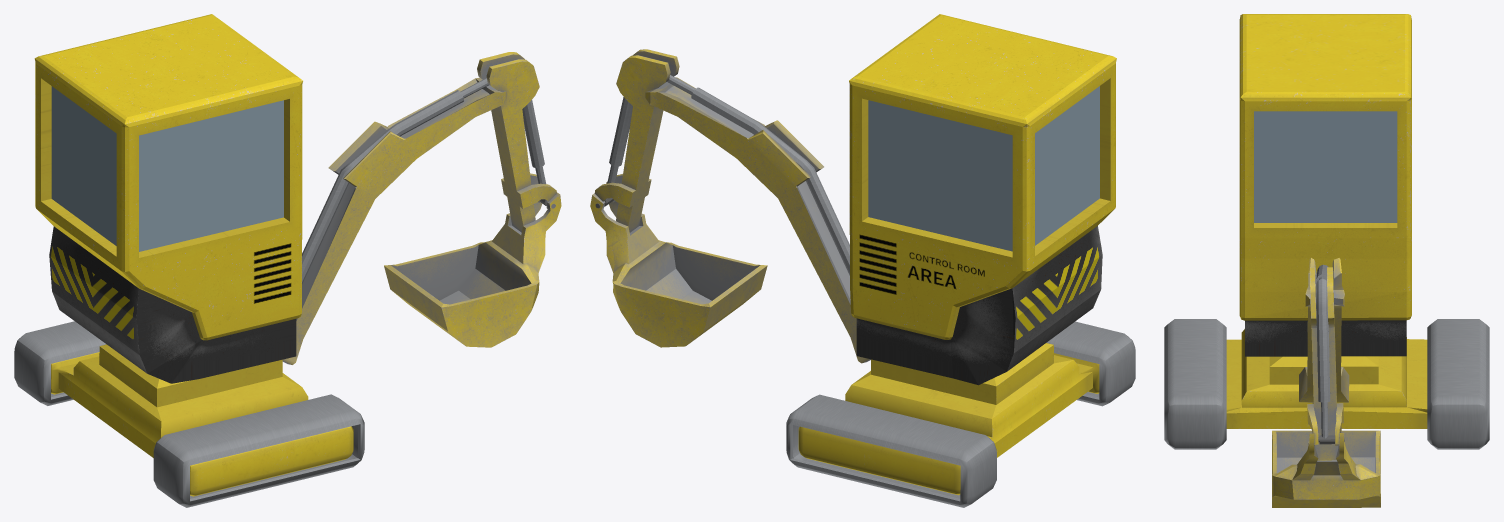
File: digger.fbx
3 renders of one model, left to right at view 1: azimuth 30°, elevation 25°; view 2: azimuth 150°, elevation 25°; view 3: azimuth 270°, elevation 25°, orthographic. The views are drawn at different scales.
Parts seen in each view (by area): view 1: cabin, main_body, right_tyre1, digger arm 3, digger arm 1, digger arm 2, second_link_tube1; view 2: cabin, main_body, right_tyre1, digger arm 3, digger arm 1, digger arm 2, second_link_tube1; view 3: cabin, right_tyre1, main_body, digger arm 3, digger arm 2, digger arm 1.
Boxes of the visible parts, x1,y1,x2,y2 form: cabin: [34, 14, 302, 383]; main_body: [51, 344, 353, 496]; right_tyre1: [14, 321, 364, 507]; digger arm 3: [384, 192, 561, 347]; digger arm 1: [282, 77, 506, 364]; digger arm 2: [477, 52, 556, 232]; second_link_tube1: [302, 78, 488, 284]; cabin: [849, 14, 1116, 385]; main_body: [798, 343, 1099, 495]; right_tyre1: [786, 321, 1135, 507]; digger arm 3: [590, 193, 767, 347]; digger arm 1: [645, 77, 870, 363]; digger arm 2: [594, 49, 679, 232]; second_link_tube1: [667, 75, 849, 275]; cabin: [1239, 14, 1411, 356]; right_tyre1: [1164, 319, 1489, 449]; main_body: [1226, 329, 1427, 428]; digger arm 3: [1272, 430, 1380, 507]; digger arm 2: [1307, 267, 1343, 460]; digger arm 1: [1299, 258, 1349, 403].
Bounding box in the file's own units: 0.3235 × 0.24 × 0.2034.
